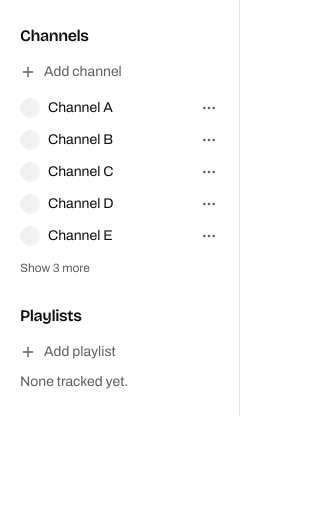
Test: Sidebar › collapses long caught-up sections behind a "show more" toggle
expect the text "Channel A" is shown: met, box x1=48 y1=100 x2=113 y2=115
expect the text "Channel F" is not shown: met
What coordinates should you click on to do the following:
click the button "Show 3 more"
I would click on:
 (55, 268)
Its box is x1=12 y1=256 x2=98 y2=280.
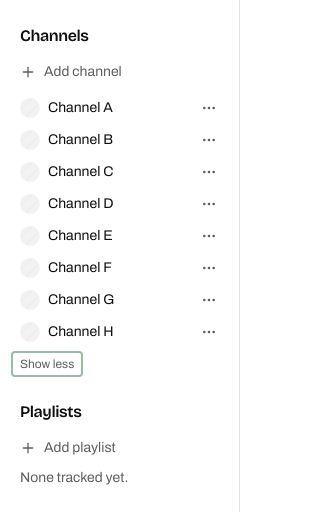
expect the text "Channel F" is shown: met, box x1=48 y1=260 x2=112 y2=275
What coordinates should you click on to do the following:
click the button "Show less"
I would click on:
 (47, 364)
Its box is x1=12 y1=352 x2=82 y2=376.
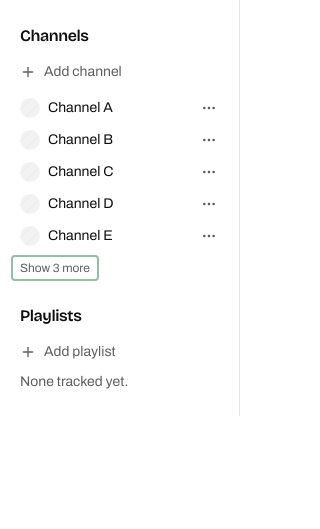
expect the link "Channel F" is gone: met
